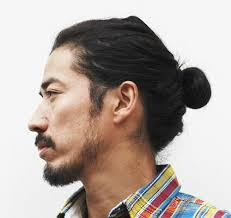asian_male: (24, 17, 190, 207)
